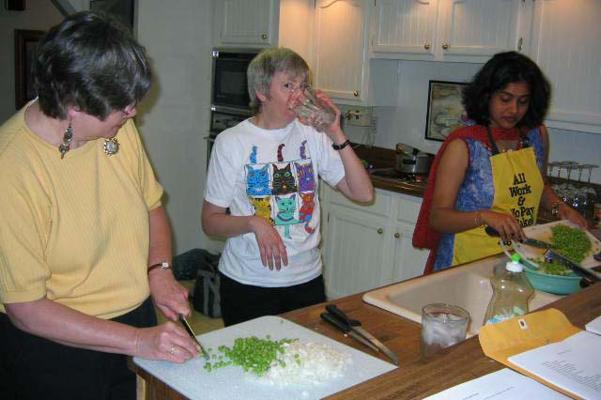person: (1, 7, 199, 400)
